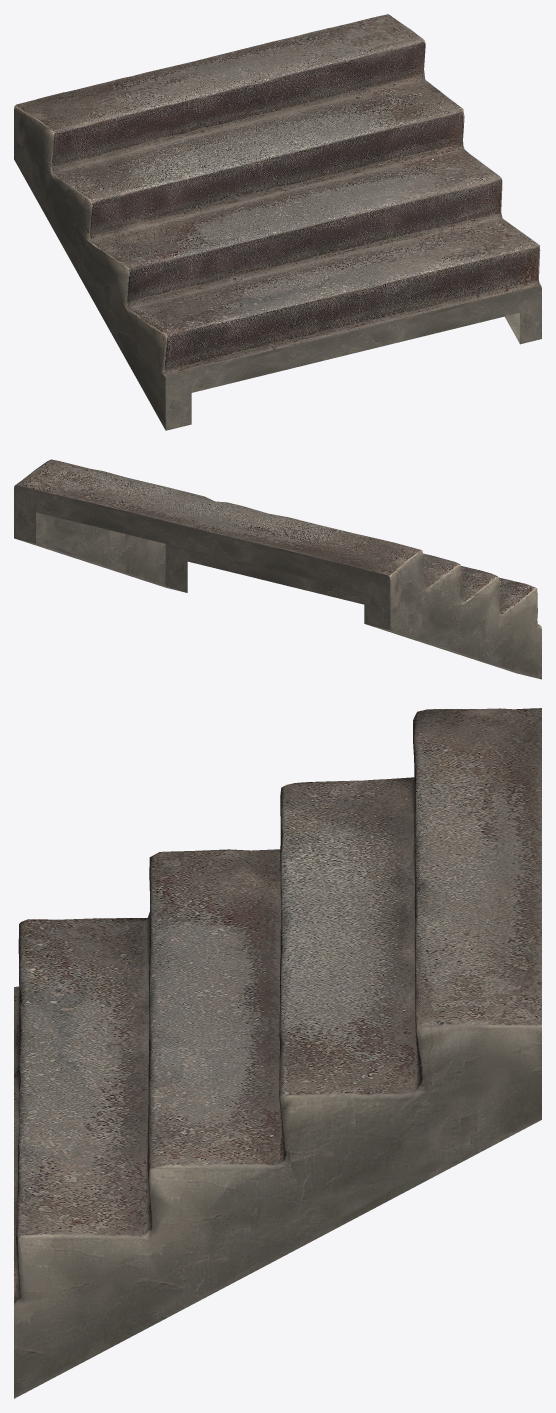
Rendered from UD_Stair_1.fbx.
3 renders of one model, top to bottom at view 1: azimuth 30°, elevation 25°; view 2: azimuth 150°, elevation 25°; view 3: azimuth 270°, elevation 25°, orthographic. The views are drawn at different scales.
Parts seen in each view (by area): view 1: S_Modular_Stairs_Kit_wjfmed1dw_lod3_Var2_LOD0; view 2: S_Modular_Stairs_Kit_wjfmed1dw_lod3_Var2_LOD0; view 3: S_Modular_Stairs_Kit_wjfmed1dw_lod3_Var2_LOD0.
Boxes of the visible parts, left/top/right/bottom form: S_Modular_Stairs_Kit_wjfmed1dw_lod3_Var2_LOD0: left=14, top=14, right=541, bottom=430; S_Modular_Stairs_Kit_wjfmed1dw_lod3_Var2_LOD0: left=14, top=459, right=541, bottom=679; S_Modular_Stairs_Kit_wjfmed1dw_lod3_Var2_LOD0: left=14, top=708, right=541, bottom=1398.
Bounding box in the file's own units: 172 × 93.99 × 120.
